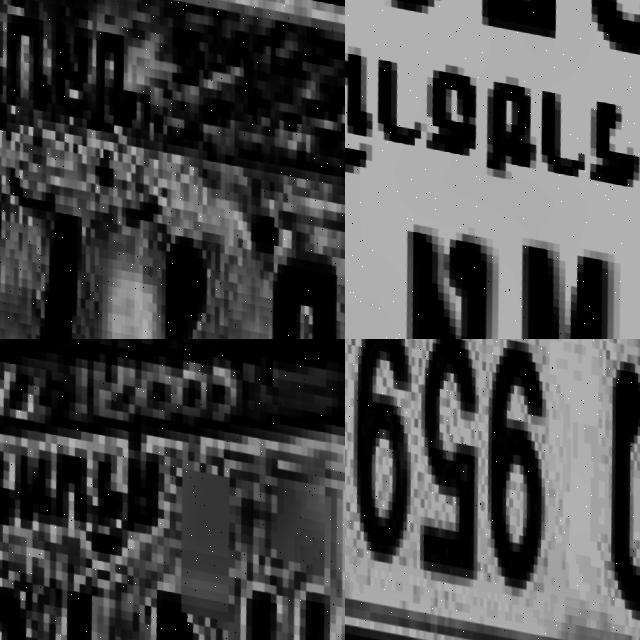license-plate: (0, 0, 345, 339), (0, 339, 345, 640), (345, 0, 640, 339), (345, 339, 640, 640)
